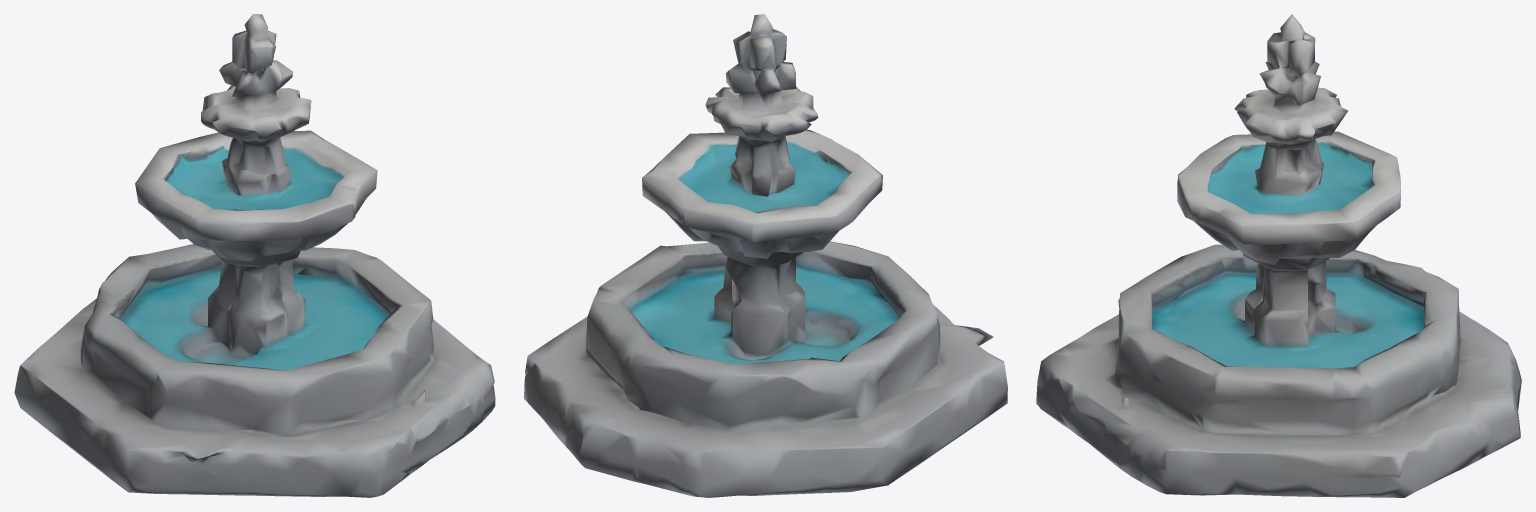
File: fountain.glb
3 views of the same model, side by side, from view 1: azimuth 30°, elevation 25°; view 2: azimuth 150°, elevation 25°; view 3: azimuth 270°, elevation 25° (orthographic).
Visible parts, largest first — view 1: tripo_node_61ae6f9f-60be-4e77-928e-f870170e4221; view 2: tripo_node_61ae6f9f-60be-4e77-928e-f870170e4221; view 3: tripo_node_61ae6f9f-60be-4e77-928e-f870170e4221.
Boxes of the visible parts, x1,y1,x2,y2 form: tripo_node_61ae6f9f-60be-4e77-928e-f870170e4221: [14, 14, 495, 497]; tripo_node_61ae6f9f-60be-4e77-928e-f870170e4221: [524, 14, 1007, 497]; tripo_node_61ae6f9f-60be-4e77-928e-f870170e4221: [1036, 14, 1521, 497].
Size of the model in its own units: 0.8897 by 0.8965 by 1.
Materials: 1 (1 with a texture image).
